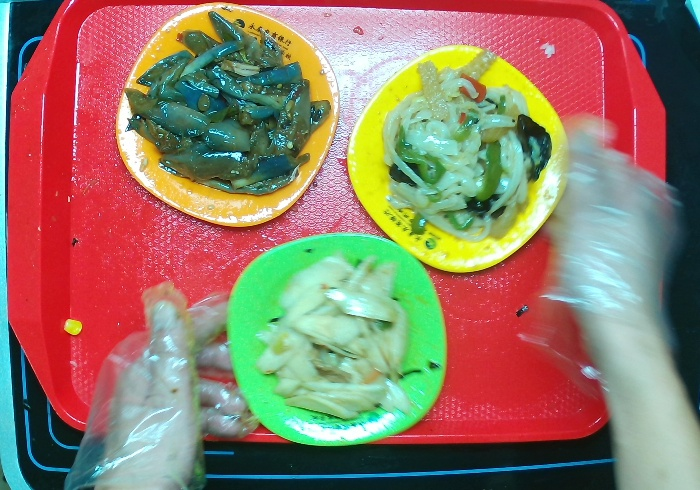YKMZ-Huang_Se_Fang_Die: (345, 42, 571, 273)
YKMZ-Ju_Se_Fang_Die: (113, 1, 342, 229)
YKMZ-Lv_Se_Fang_Die: (224, 229, 450, 448)
